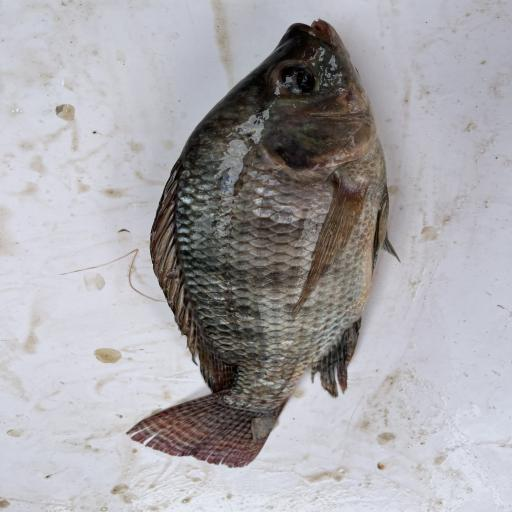Tilapia: (126, 19, 401, 469)
